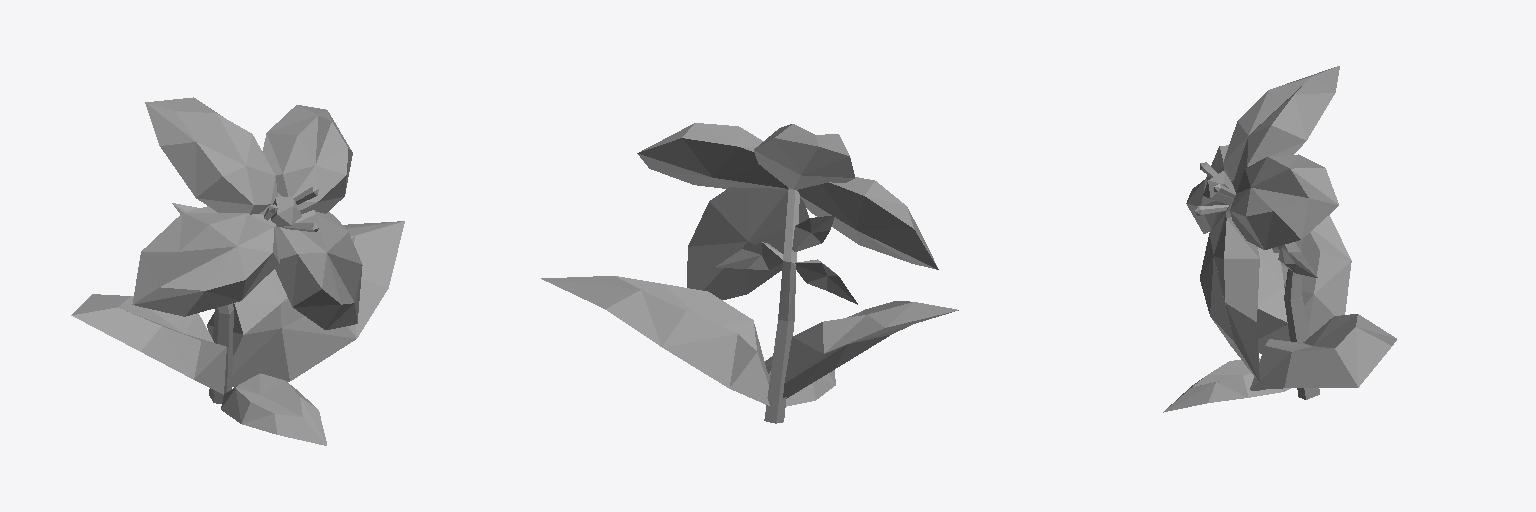
File: Flower.obj
3 views of the same model, side by side, from view 1: azimuth 30°, elevation 25°; view 2: azimuth 150°, elevation 25°; view 3: azimuth 270°, elevation 25° (orthographic).
Parts seen in each view (by area): view 1: Inst3D27_RefRep.226; view 2: Inst3D27_RefRep.226; view 3: Inst3D27_RefRep.226.
Part boxes in pixels (x1,y1,x2,y2): Inst3D27_RefRep.226: (71, 97, 404, 445); Inst3D27_RefRep.226: (541, 123, 958, 423); Inst3D27_RefRep.226: (1163, 66, 1396, 412).
Bounding box in the file's own units: 3.9 × 2.99 × 2.11.